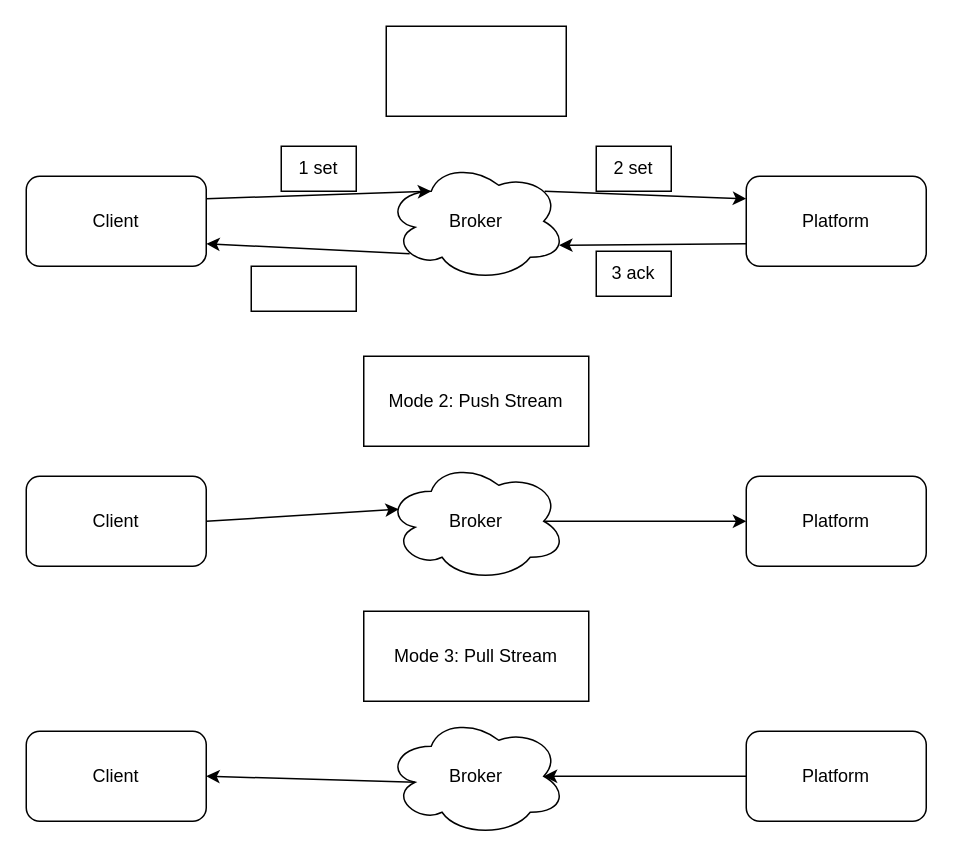
Image size: 953x863. Some labels were removed from this diagram. Each missing label, with the box of its shape:
4 wait ack: (250, 265, 356, 311)
Mode 1: Control: (385, 25, 566, 116)
